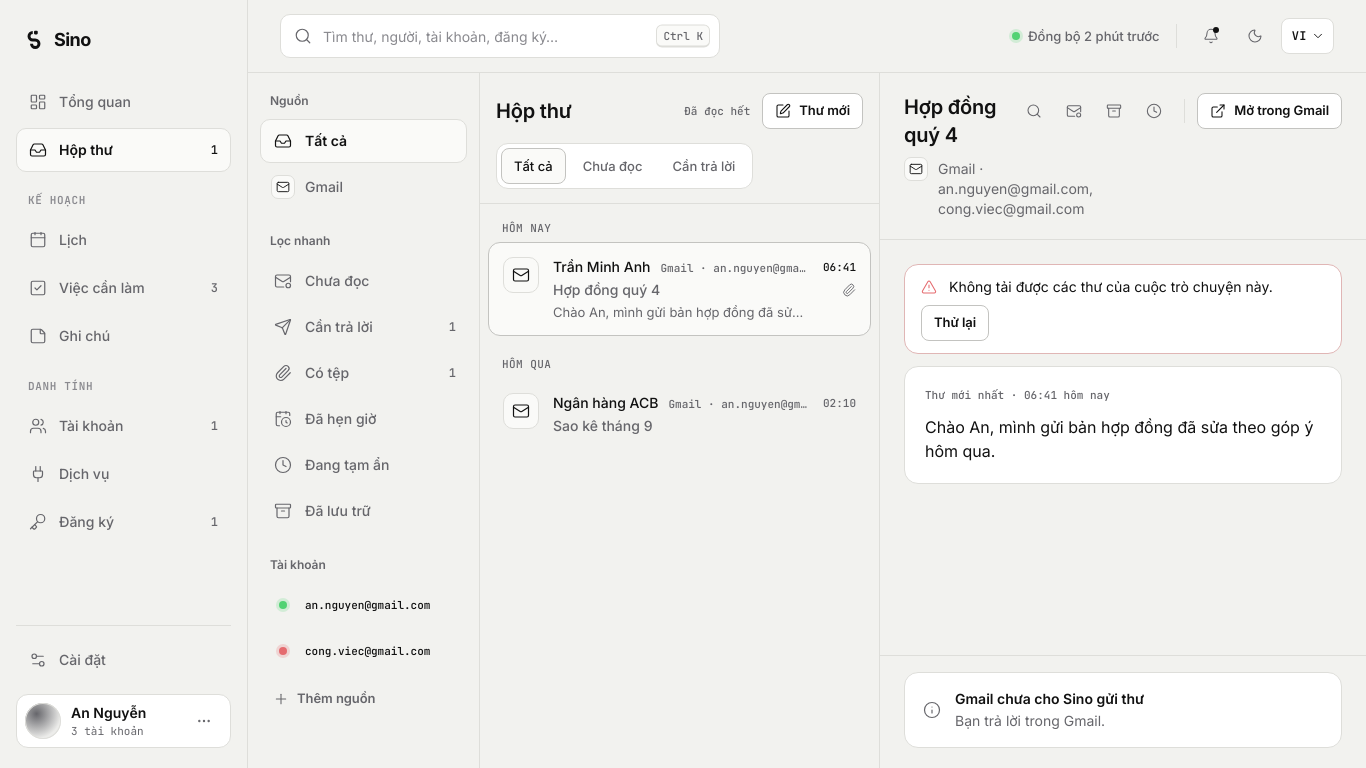
Test case: a conversation read in full on the F06 API (FE-57) › says when the emails cannot load, shows the start of the newest meanwhile, and loads them on retry
This screenshot has width=1366, height=768.
Check: the message "Không tải được các thư của cuộc trò chuyện này. Thử lại" is shown, box [904, 264, 1342, 354]
Check: the element "Thư mới nhất" shows "Chào An, mình gửi bản hợp đồng đã sửa theo góp ý hôm qua.", box [925, 417, 1313, 461]
Click the button "Thử lại".
click(955, 323)  # box [921, 305, 989, 341]
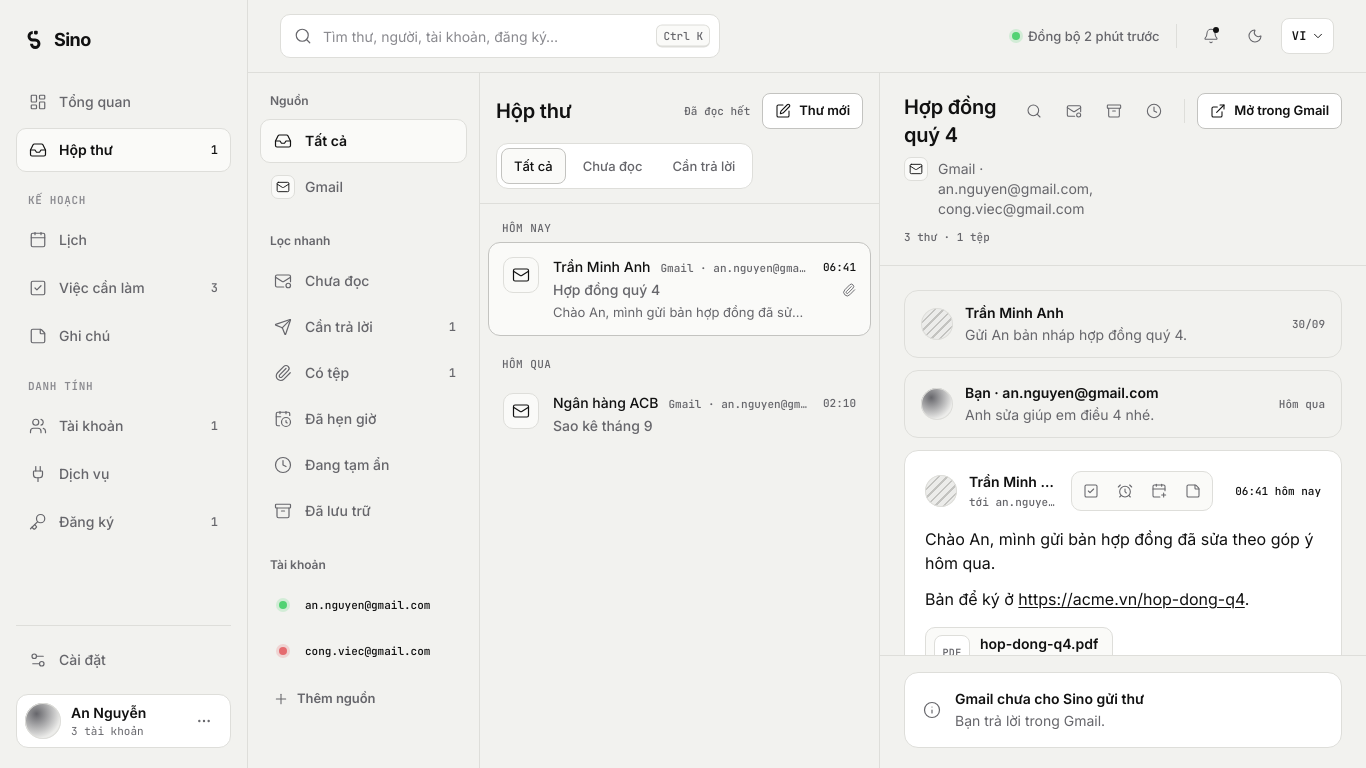
Check: the text "Chào An, mình gửi bản hợp đồng" shows "Bản để ký ở", box [925, 589, 1018, 609]
Check: the message "Không tải được các thư của cuộc trò chuyện này. Thử lại" is gone
